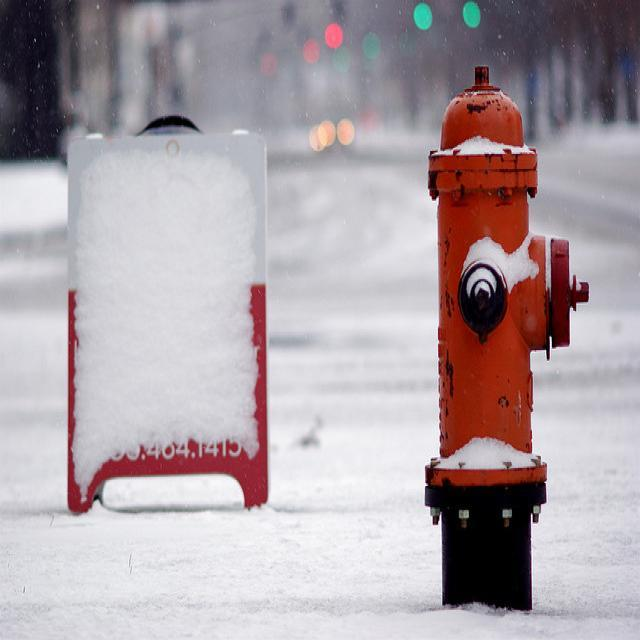fire_hydrant: (420, 64, 592, 612)
